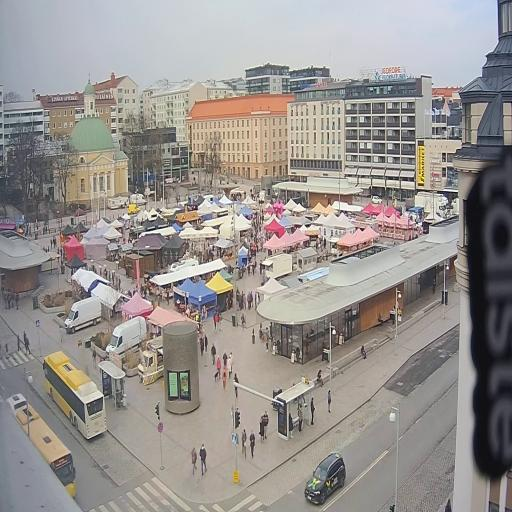bus: (6, 388, 80, 501), (40, 346, 111, 446)
car: (299, 442, 357, 508)
delivery: (104, 309, 149, 364), (61, 293, 105, 333), (410, 191, 449, 222), (128, 189, 151, 206), (125, 200, 142, 217)
